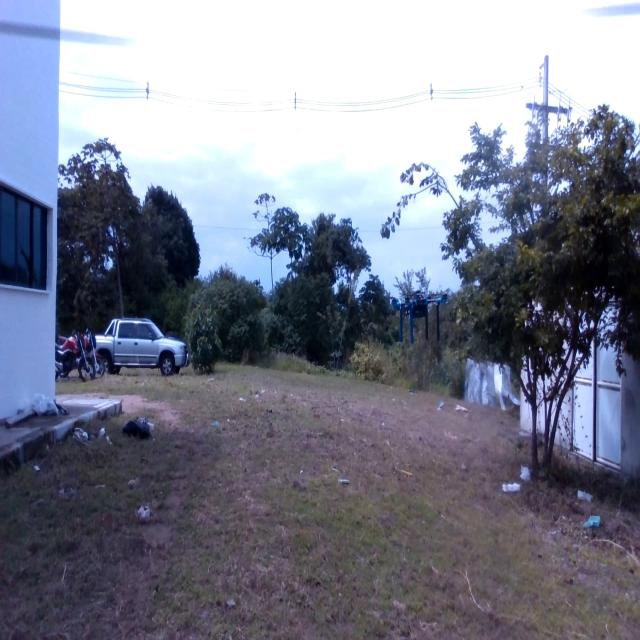-uav-: (386, 280, 451, 353)
